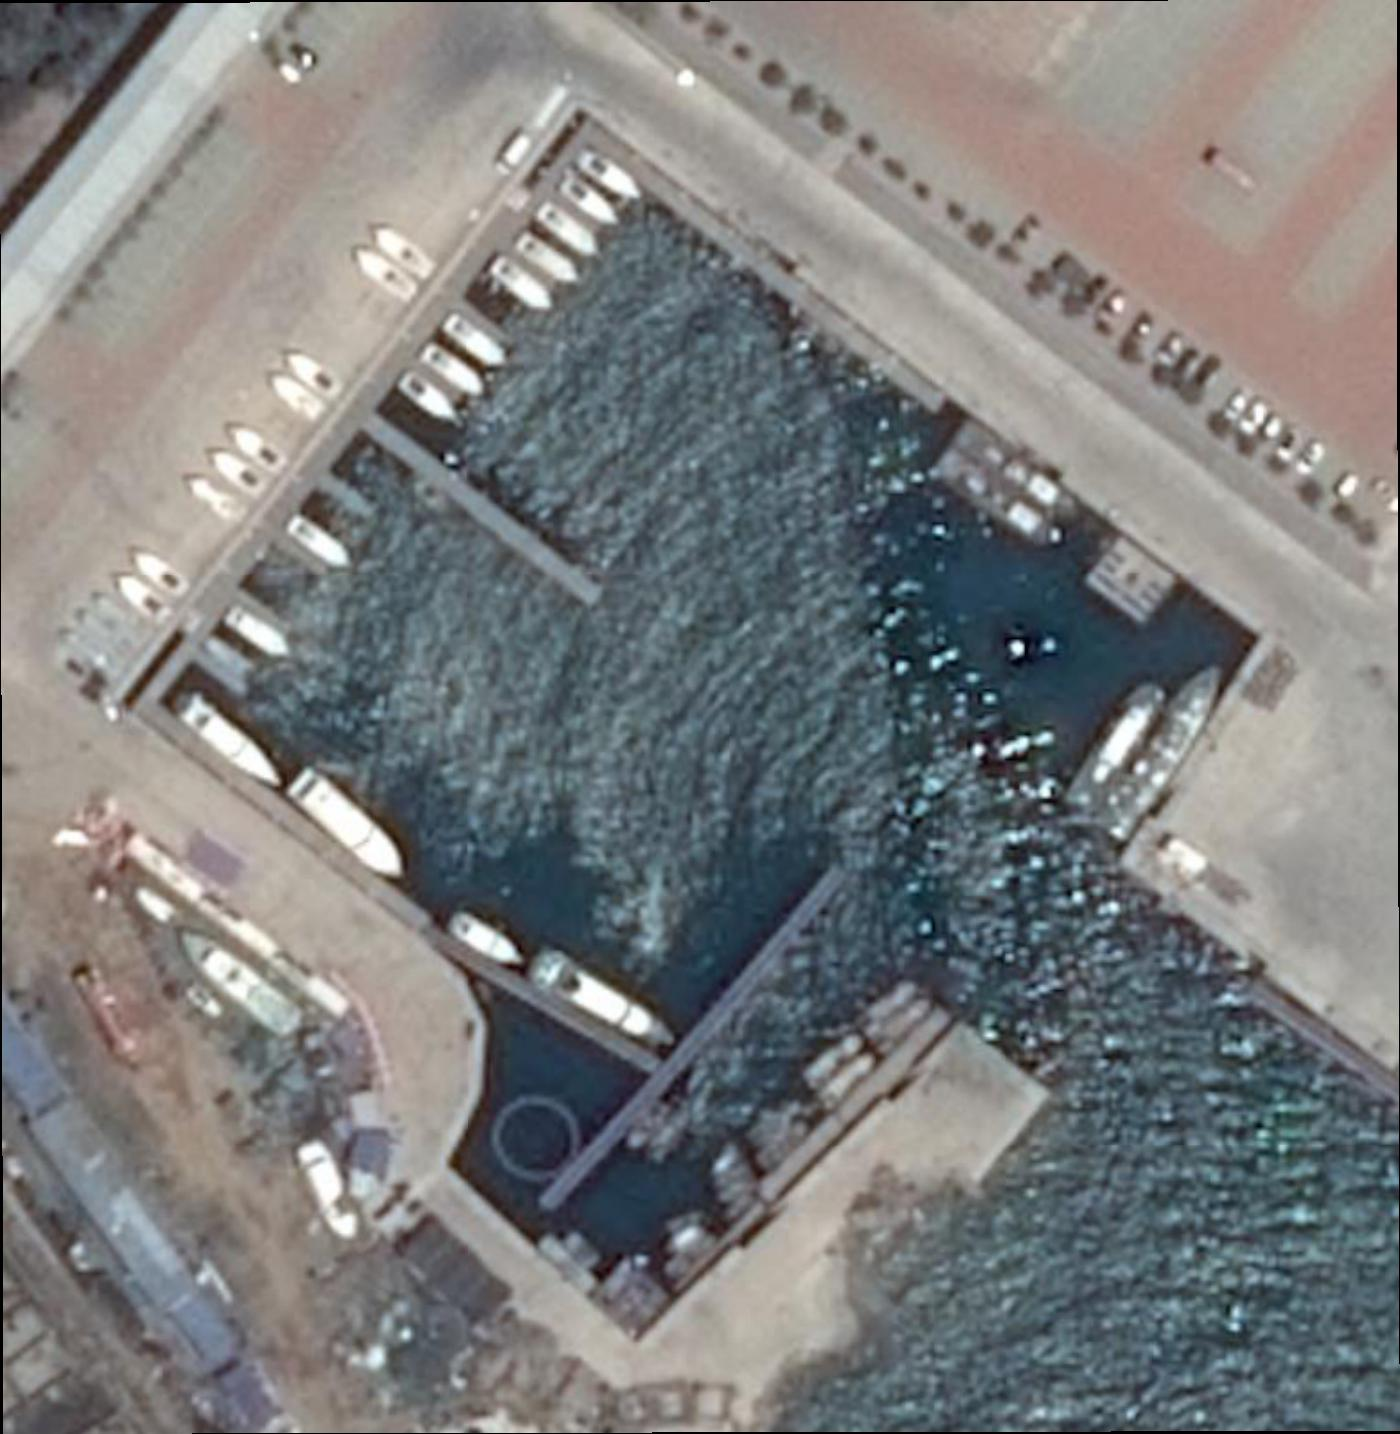harbor: (362, 411, 604, 606), (456, 297, 515, 350), (504, 243, 559, 293), (410, 358, 467, 406), (235, 588, 292, 636), (319, 470, 374, 519), (192, 647, 247, 696), (549, 188, 605, 236), (276, 531, 329, 577)
ship: (1094, 656, 1236, 846), (526, 944, 685, 1059), (286, 762, 418, 887), (1062, 673, 1171, 819), (174, 921, 305, 1041), (931, 445, 1071, 556), (950, 416, 1087, 525), (171, 686, 291, 793), (294, 1137, 364, 1244), (444, 903, 531, 975), (346, 240, 422, 308), (417, 340, 494, 404), (365, 217, 437, 284), (222, 601, 295, 666), (487, 252, 558, 319), (532, 199, 605, 263), (574, 145, 647, 208), (513, 229, 587, 291), (285, 511, 356, 574), (441, 311, 512, 374), (853, 975, 922, 1037), (556, 170, 626, 229), (815, 1048, 881, 1110), (799, 1030, 865, 1091), (279, 343, 346, 404), (871, 994, 935, 1055), (396, 370, 462, 429), (226, 420, 288, 479), (264, 367, 327, 423), (208, 443, 271, 500), (185, 470, 247, 527), (129, 546, 192, 601), (113, 572, 176, 625)
